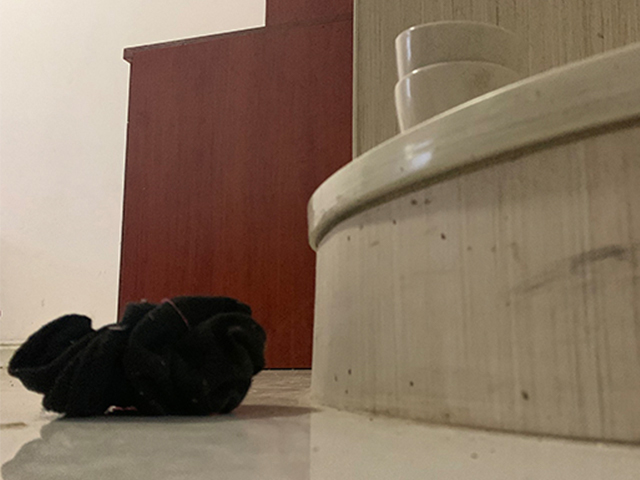socks: (7, 293, 270, 418)
